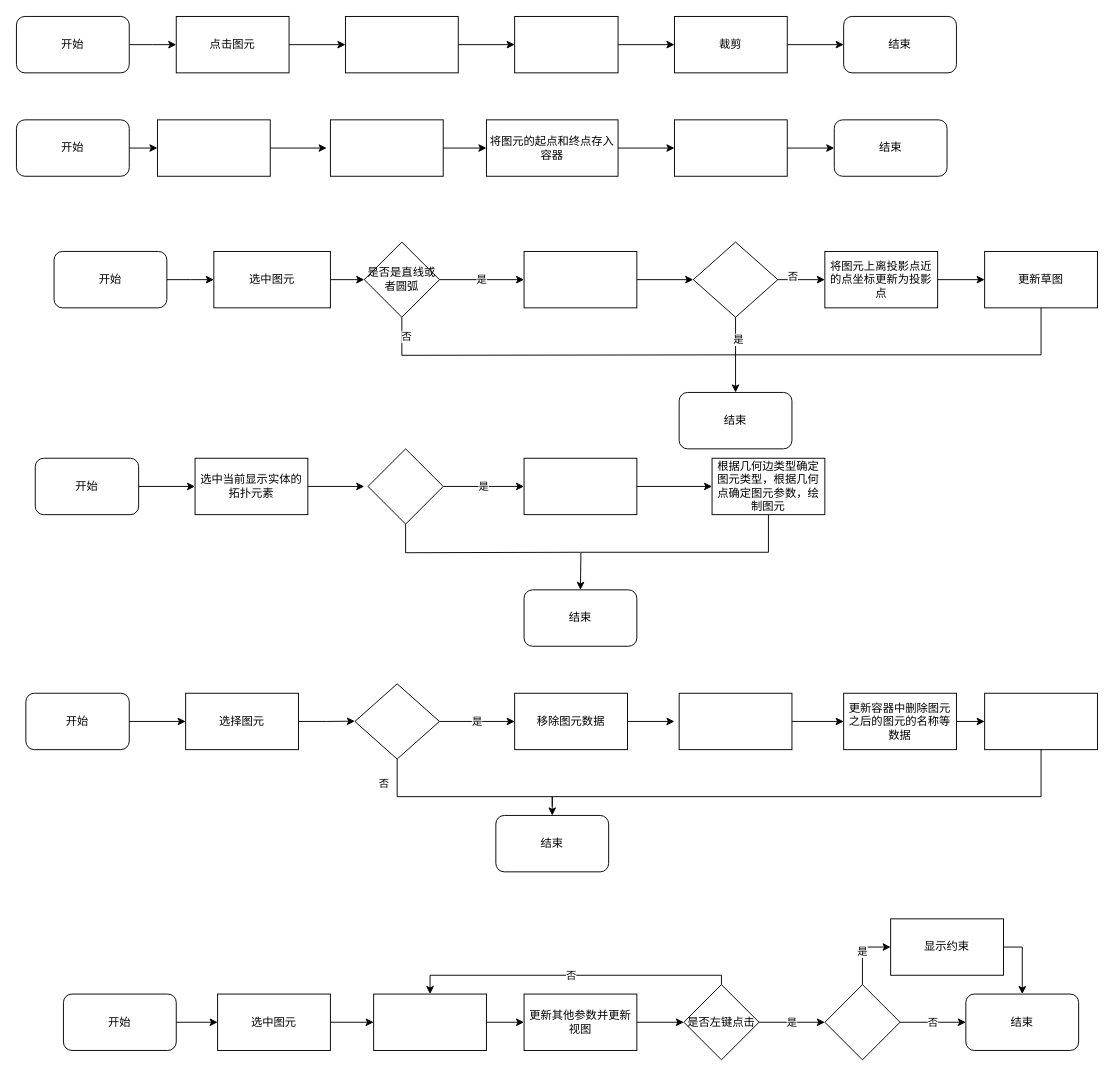
The diagram is 1114 pixels wide and 1076 high, and some of its shapes have lost their labels. The centre of each missing label's shape, as x and y in pixels:
元素类型是否是边: (405,486)
分析裁剪结果情况: (566,44)
容器预处理: (401,44)
将容器从小到大进行排序: (730,147)
将选中图元与其他图元交点全部存入容器: (213,147)
将鼠标点向选中图元做正交投影: (580,279)
投影点是否在选中的图元上: (735,279)
捕捉到新约束: (862,1022)
擦除交点不在选中图元上的交点: (386,147)
是否按下Delete键: (396,721)
更改相应参数: (429,1021)
根据OCC提供的接口获取元素几何边类型与边的几何点: (580,486)
移除与删除图元有关的约束: (735,721)
视图更新: (1040,721)
